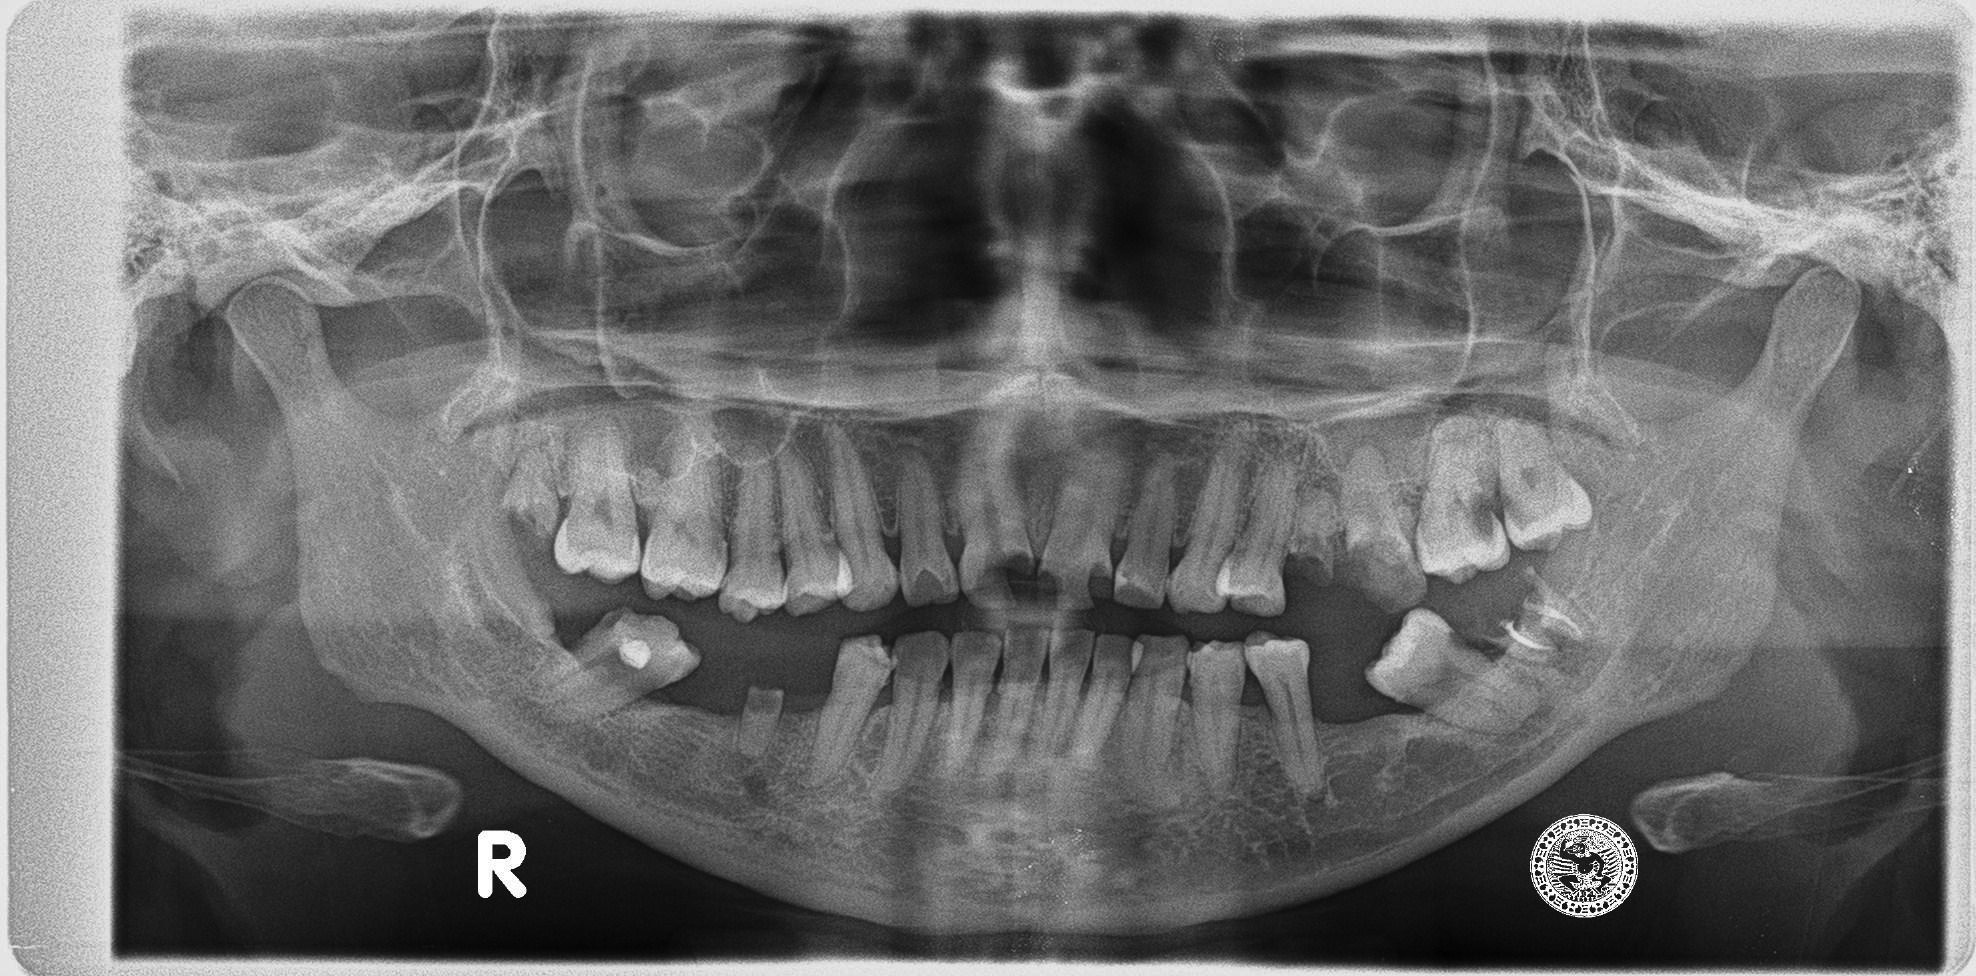Individual Tooth: (1366, 608, 1539, 733), (532, 608, 699, 719), (951, 410, 1031, 629), (1168, 429, 1256, 612), (1416, 415, 1511, 581), (1337, 446, 1425, 615), (1038, 446, 1130, 607), (641, 420, 725, 596), (822, 425, 899, 609), (775, 438, 852, 615), (554, 426, 641, 581), (1219, 445, 1295, 617), (1493, 417, 1592, 551), (1245, 632, 1323, 794), (871, 632, 948, 793), (813, 636, 895, 784), (720, 443, 788, 620), (1117, 638, 1187, 803), (1114, 455, 1181, 608), (896, 449, 959, 605), (938, 632, 1002, 781), (1067, 634, 1133, 769), (1188, 642, 1246, 789), (1030, 630, 1093, 757), (992, 628, 1048, 764), (1288, 470, 1343, 584), (503, 446, 560, 536), (735, 687, 783, 758)
